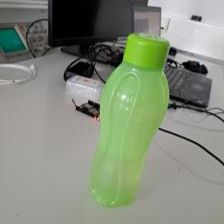bottle: (86, 31, 173, 206)
